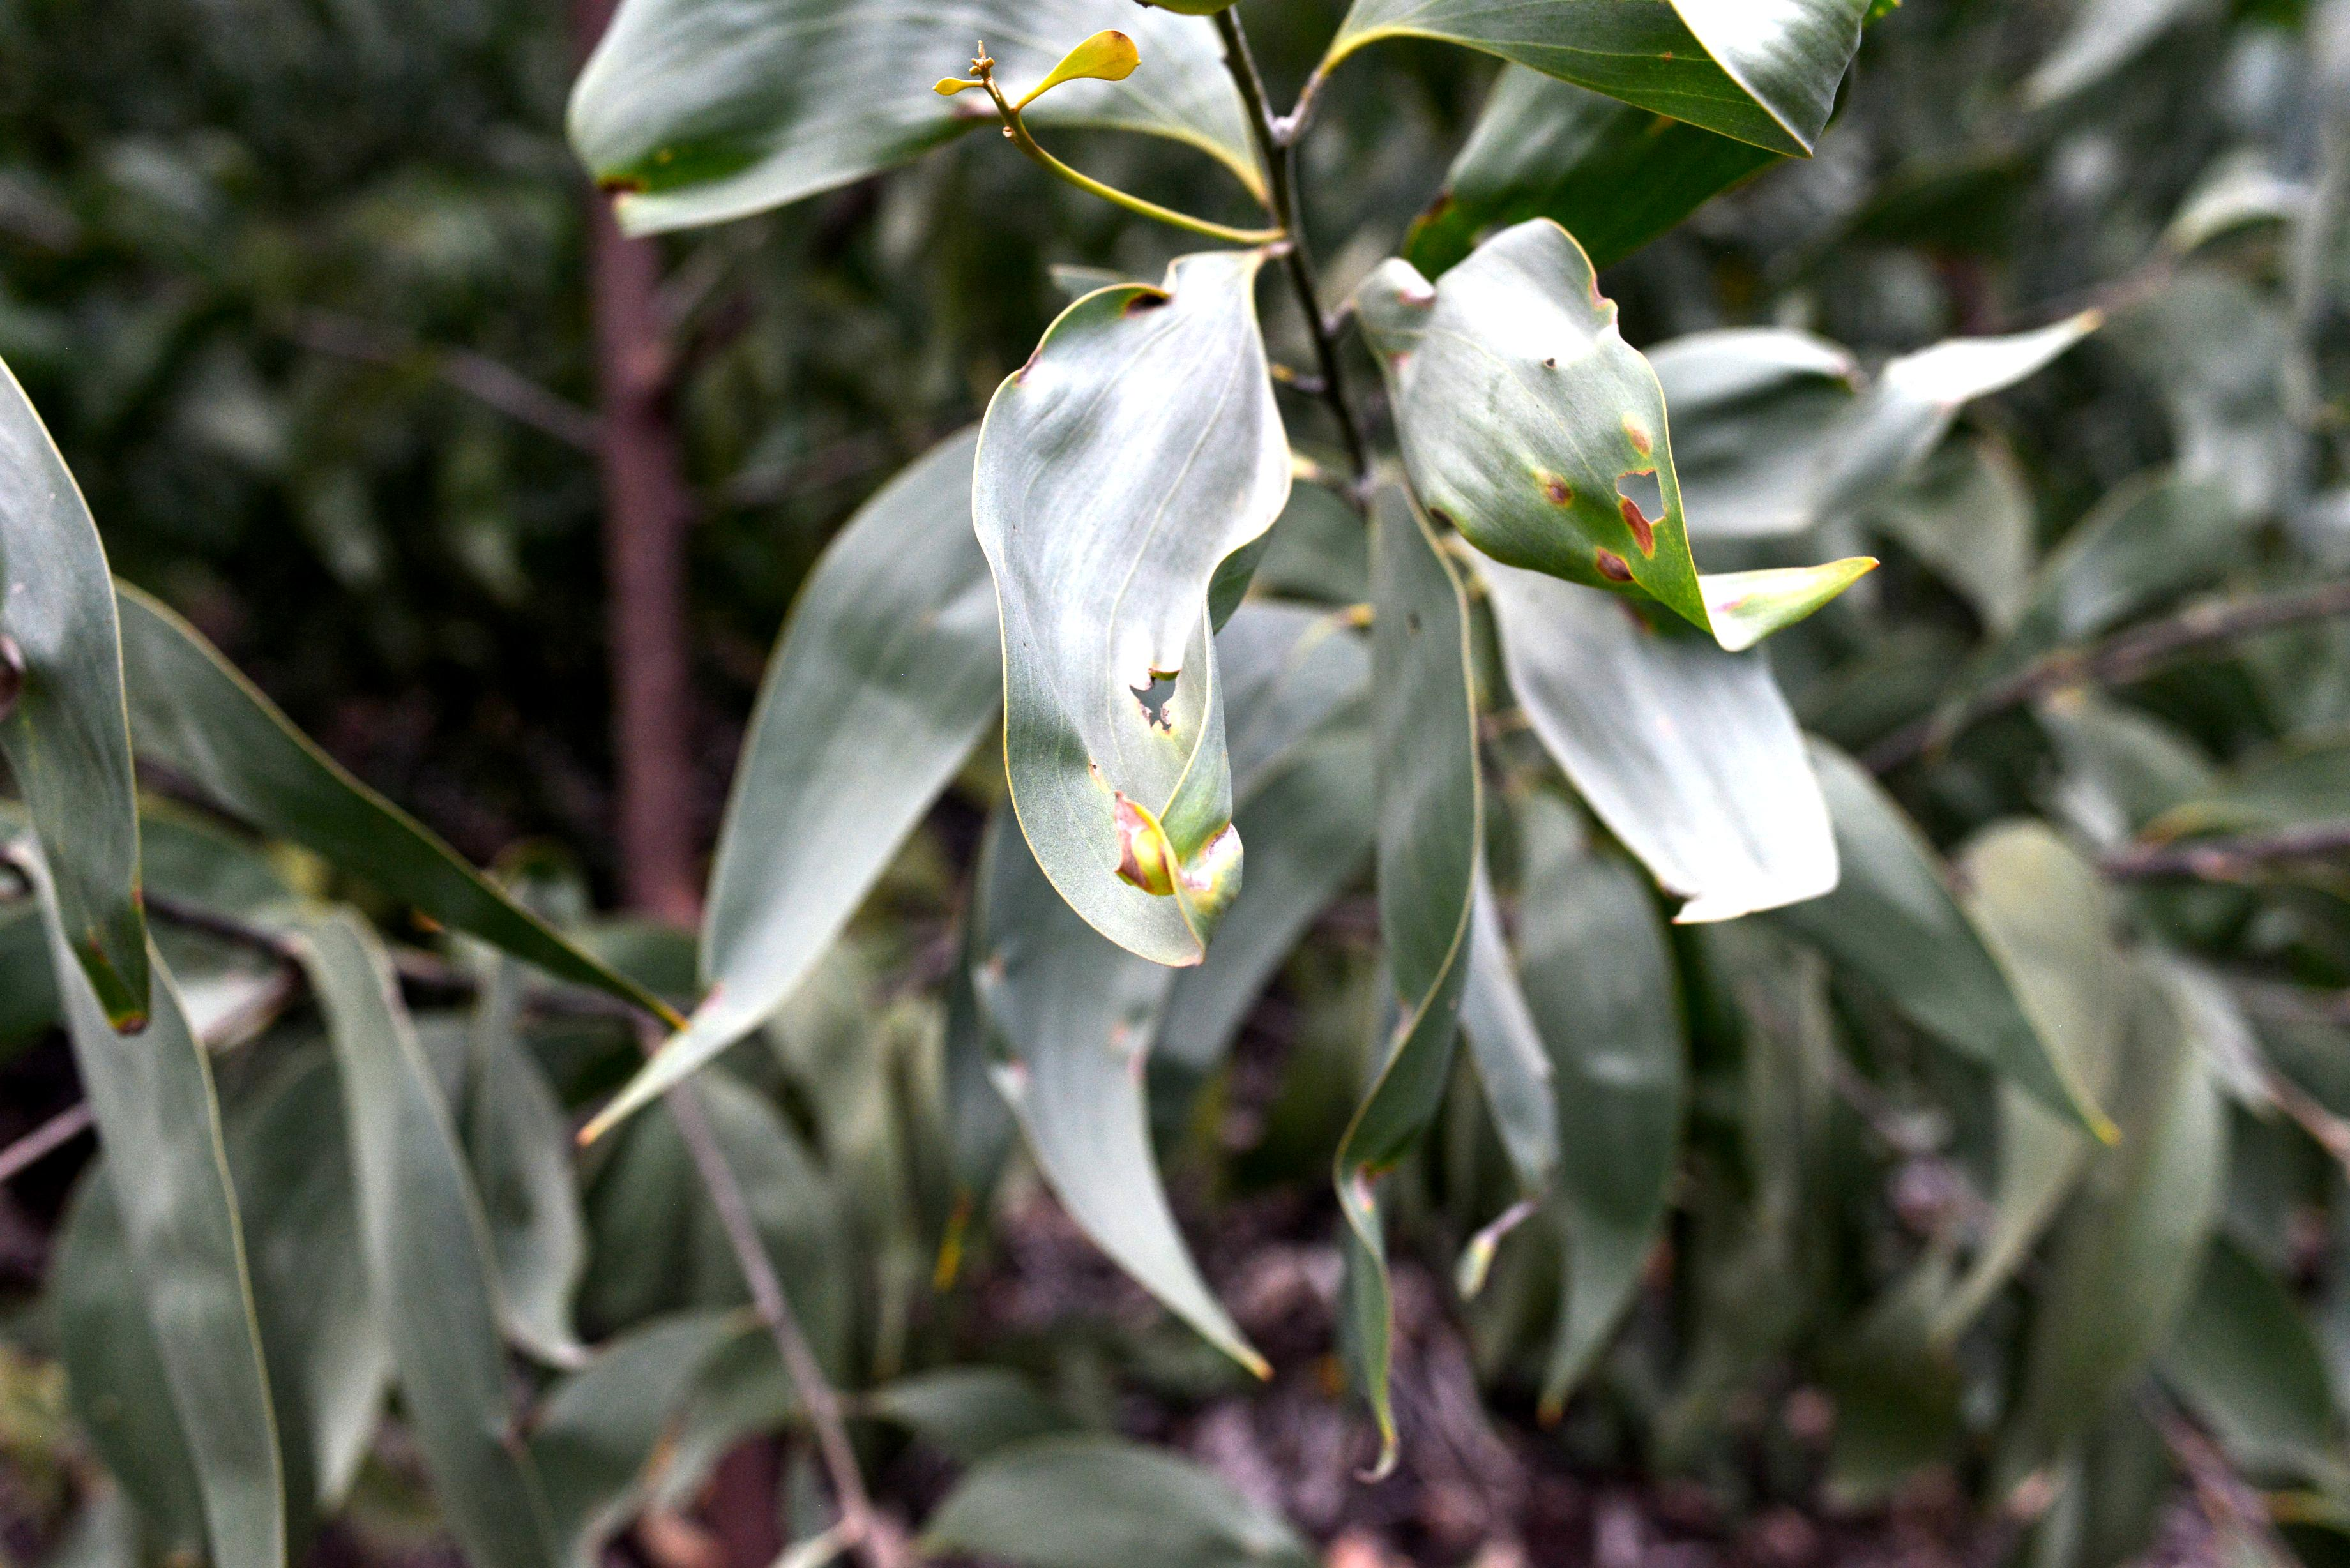Pasalora: (962, 227, 1318, 973), (1353, 222, 1907, 661), (530, 0, 1270, 196)
